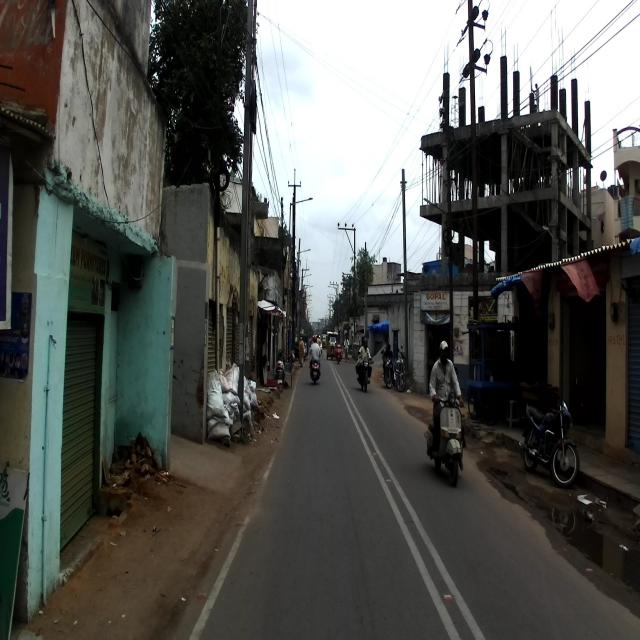motorcycle: (519, 392, 578, 488)
scooter: (423, 390, 466, 487)
